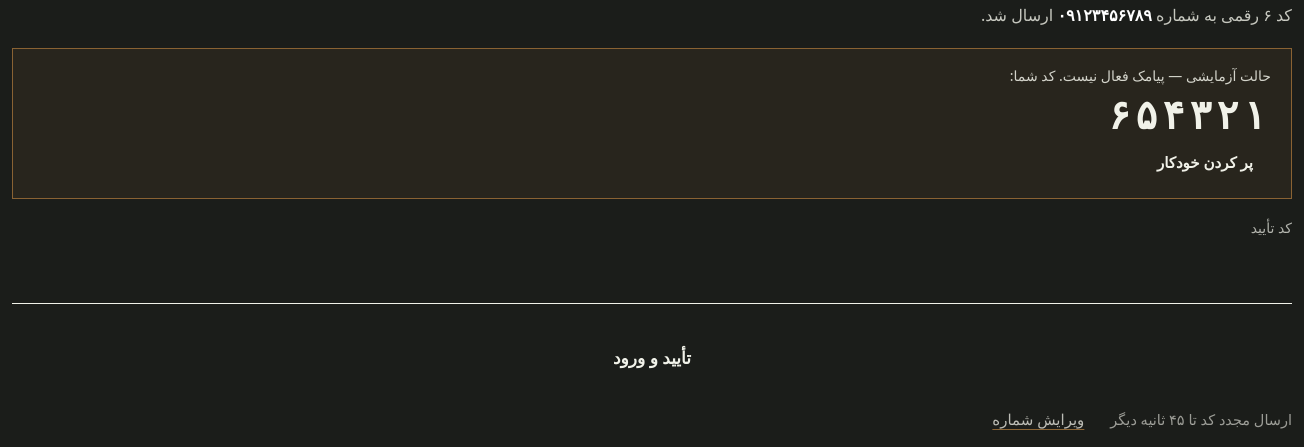
Test: OtpVerify › filling the code from the dev box verifies it automatically
The image size is (1304, 447).
Click the button "پر کردن خودکار" at (1205, 162), box [1139,142,1271,182]
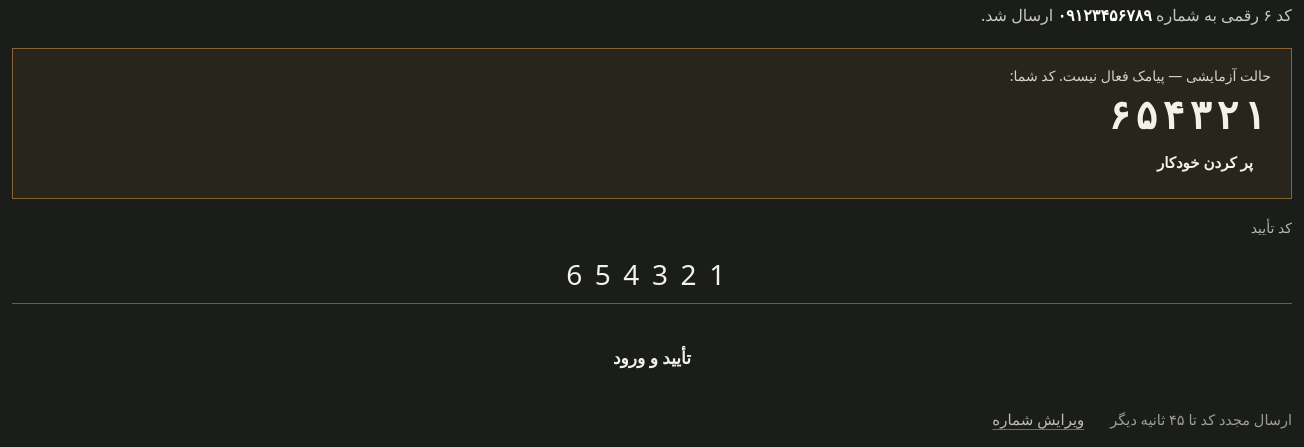
Result: the field named "کد تأیید ۶ رقمی" holds "654321" at [12,244,1292,304]
